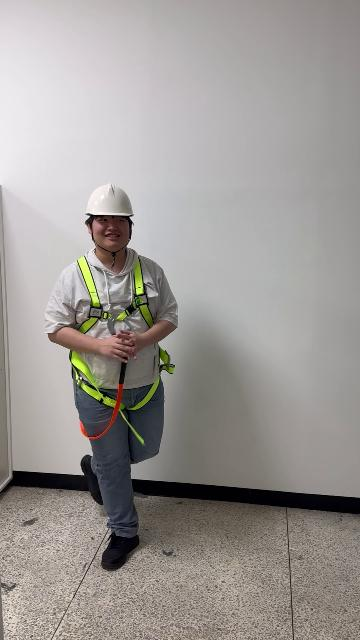helmet_worn: (85, 182, 136, 218)
shoe_not_worn: (100, 532, 139, 570), (81, 453, 103, 505)
vest_worn: (61, 257, 174, 441)
